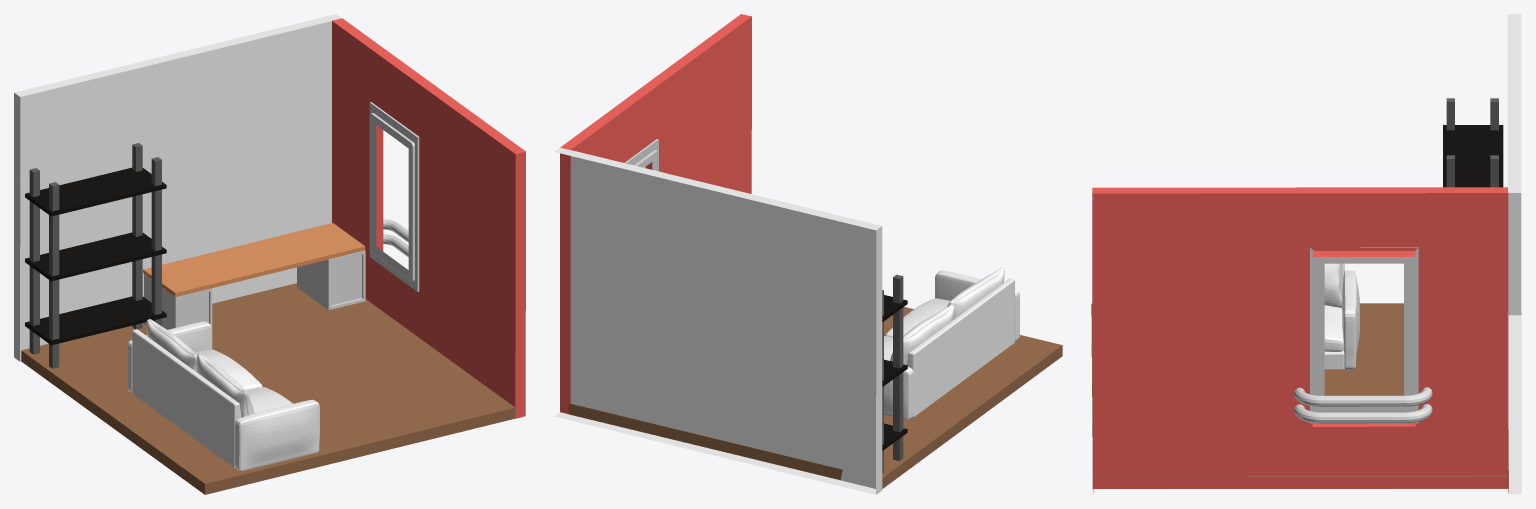
The model's file is betawebModel.glb.
The picture shows the model from 3 angles, left to right: view 1: azimuth 30°, elevation 25°; view 2: azimuth 150°, elevation 25°; view 3: azimuth 270°, elevation 25°; orthographic projection. The views are drawn at different scales.
Parts seen in each view (by area): view 1: Cube.033, Cube.023, Cube.032, Cube.009, Cube.214, Cube.006, Cube.002, Cube.012, Cube.015, Cube.011, Cube.013; view 2: Cube.033, Cube.023, Cube.009, Cube.032, Cube.002, Cube.214; view 3: Cube.023, Cube.033, Cube.032, Cube.009, Cube.214, Cube.013, Cube.015, Torus, Torus.001, Cube.002.
Boxes of the visible parts, left/top/right/bottom form: Cube.033: left=14, top=14, right=341, bottom=361; Cube.023: left=332, top=18, right=525, bottom=418; Cube.032: left=21, top=283, right=515, bottom=494; Cube.009: left=127, top=319, right=319, bottom=471; Cube.214: left=25, top=167, right=166, bottom=345; Cube.006: left=143, top=223, right=365, bottom=296; Cube.002: left=29, top=143, right=161, bottom=368; Cube.012: left=297, top=250, right=365, bottom=310; Cube.015: left=369, top=113, right=414, bottom=281; Cube.011: left=144, top=274, right=212, bottom=329; Cube.013: left=369, top=102, right=419, bottom=291; Cube.033: left=554, top=147, right=882, bottom=494; Cube.023: left=560, top=14, right=751, bottom=413; Cube.009: left=884, top=267, right=1019, bottom=419; Cube.032: left=568, top=307, right=1062, bottom=488; Cube.002: left=882, top=274, right=903, bottom=473; Cube.214: left=882, top=295, right=907, bottom=450; Cube.023: left=1092, top=187, right=1508, bottom=493; Cube.033: left=1507, top=14, right=1521, bottom=494; Cube.032: left=1091, top=303, right=1508, bottom=488; Cube.009: left=1324, top=263, right=1359, bottom=369; Cube.214: left=1443, top=125, right=1503, bottom=187; Cube.013: left=1310, top=247, right=1418, bottom=423; Cube.015: left=1320, top=257, right=1408, bottom=412; Torus: left=1294, top=387, right=1432, bottom=406; Torus.001: left=1294, top=404, right=1432, bottom=423; Cube.002: left=1446, top=98, right=1498, bottom=187.
Bounding box in the file's own units: 10.18 × 7.68 × 9.93.
